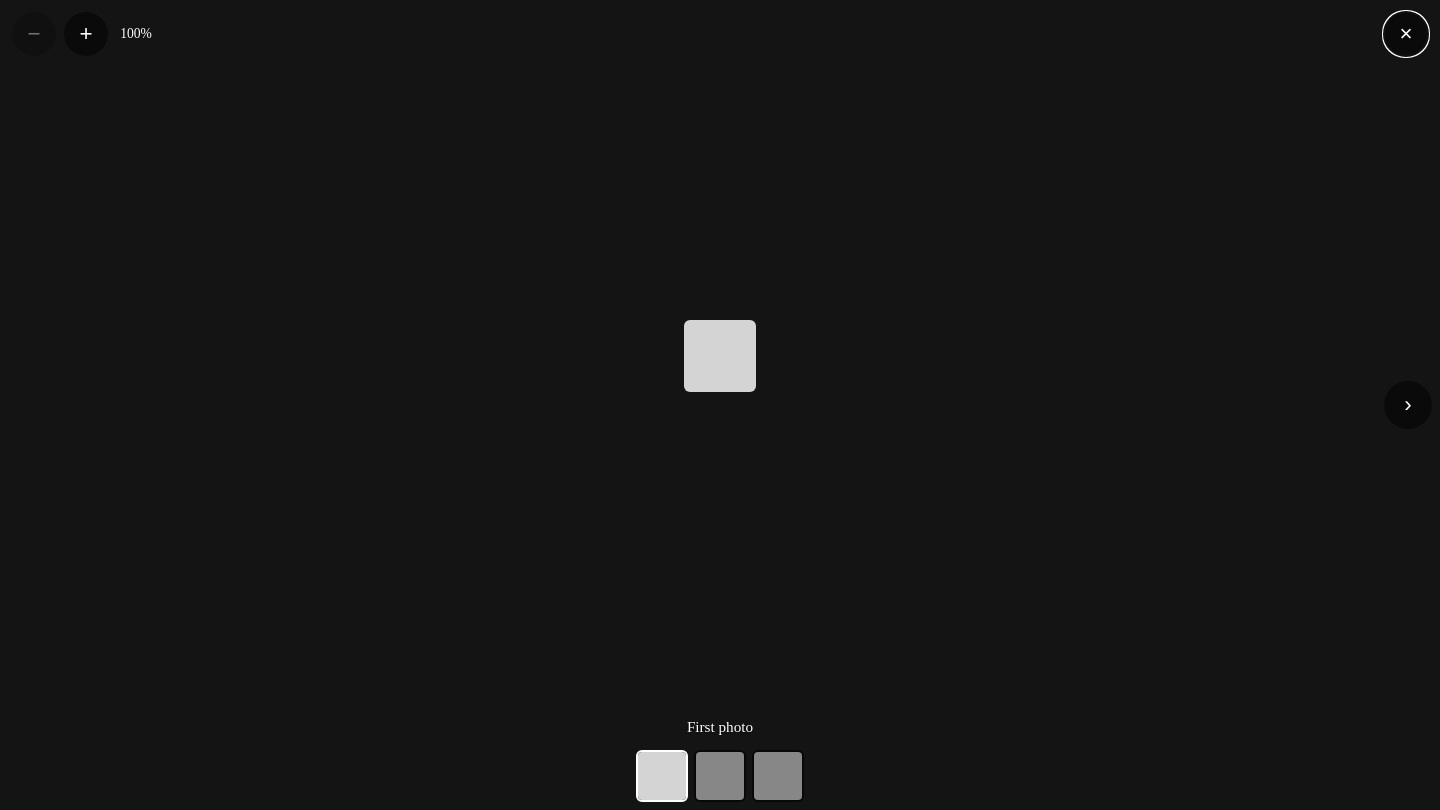
Test: Lightbox component › zoom-in clamps at MAX (400%) and disables the in-button
Step 1. Click the button named "Zoom in" → (86,34), box [64,12,108,56]
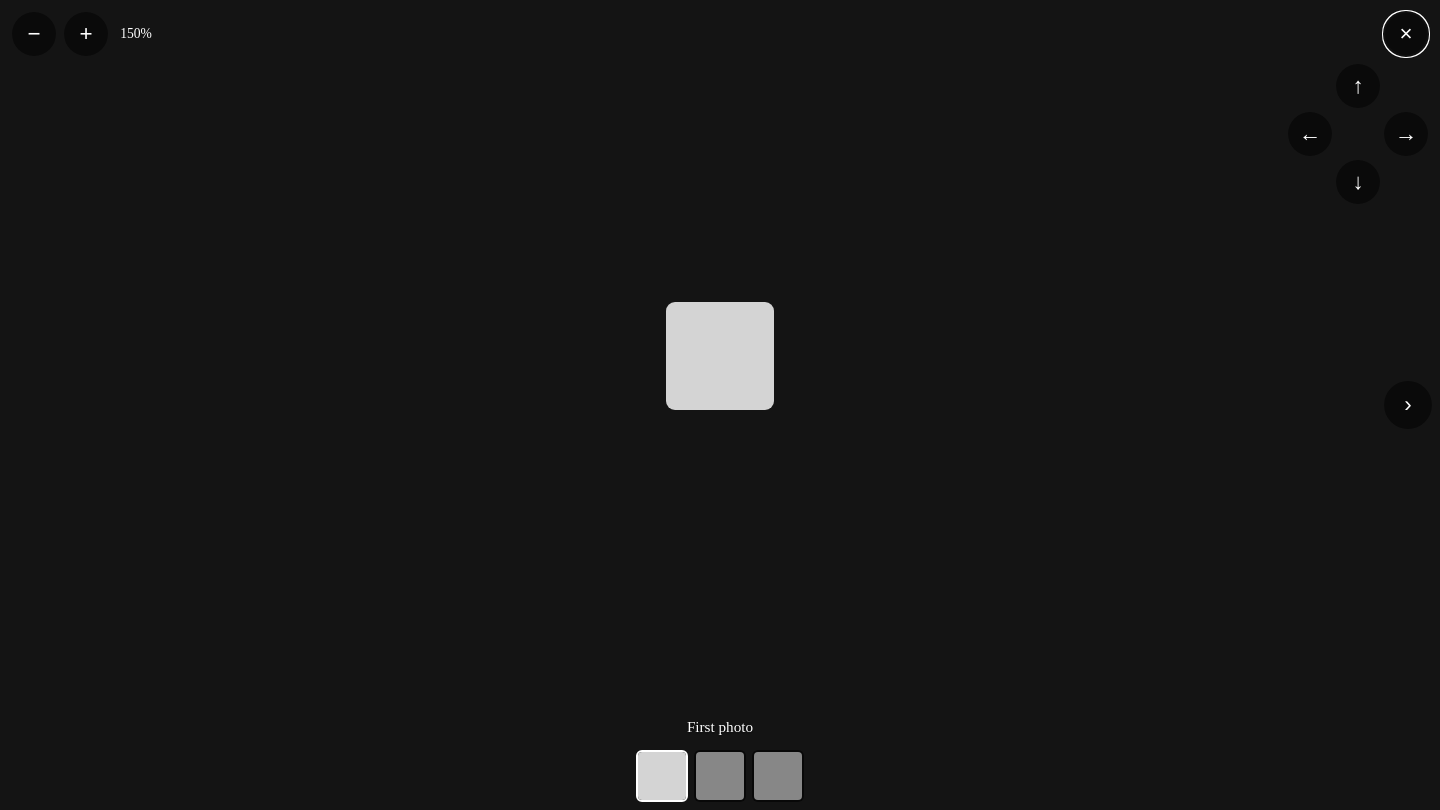
Step 2. Click the button named "Zoom in" → (86,34), box [64,12,108,56]
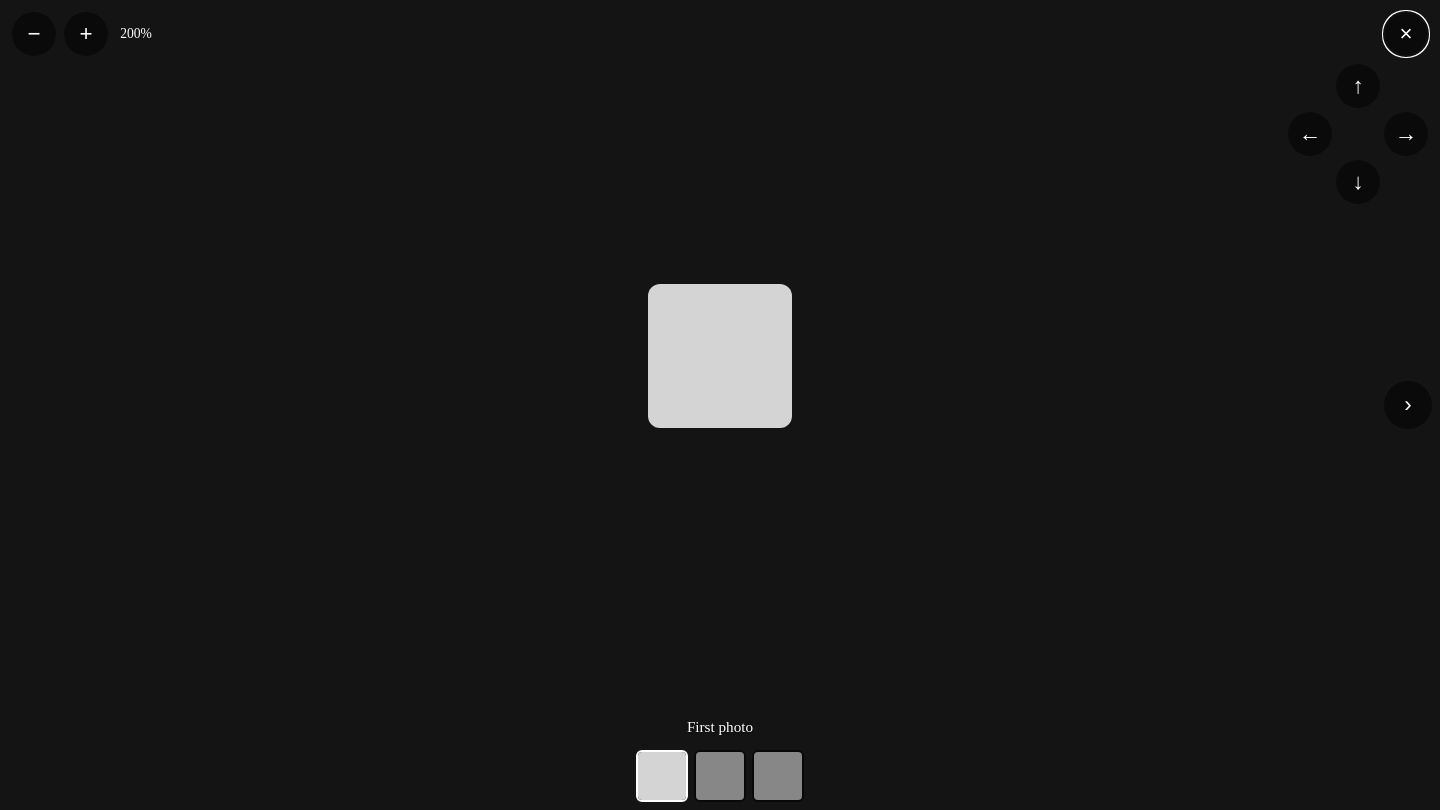
Step 3. Click the button named "Zoom in" → (86,34), box [64,12,108,56]
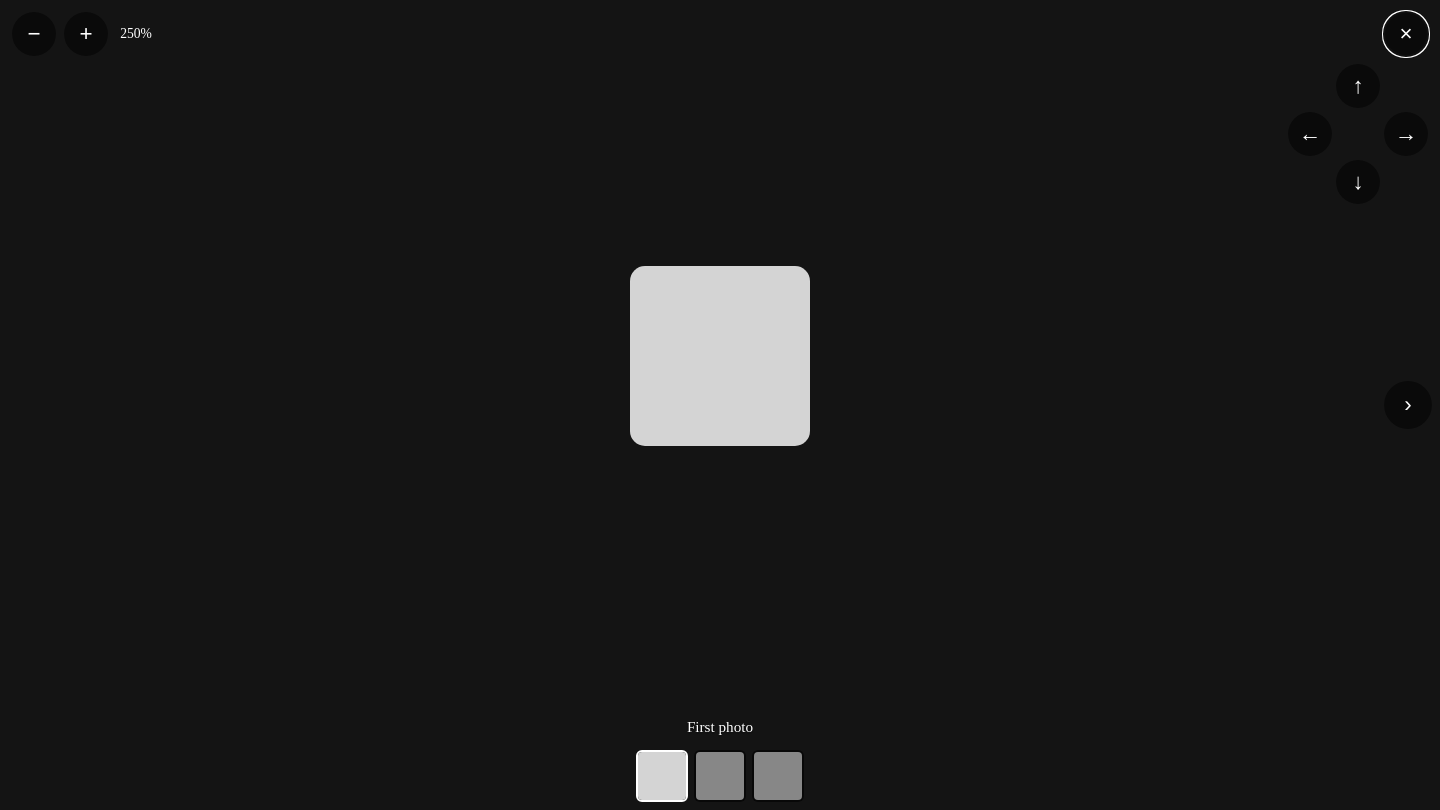
Step 4. Click the button named "Zoom in" → (86,34), box [64,12,108,56]
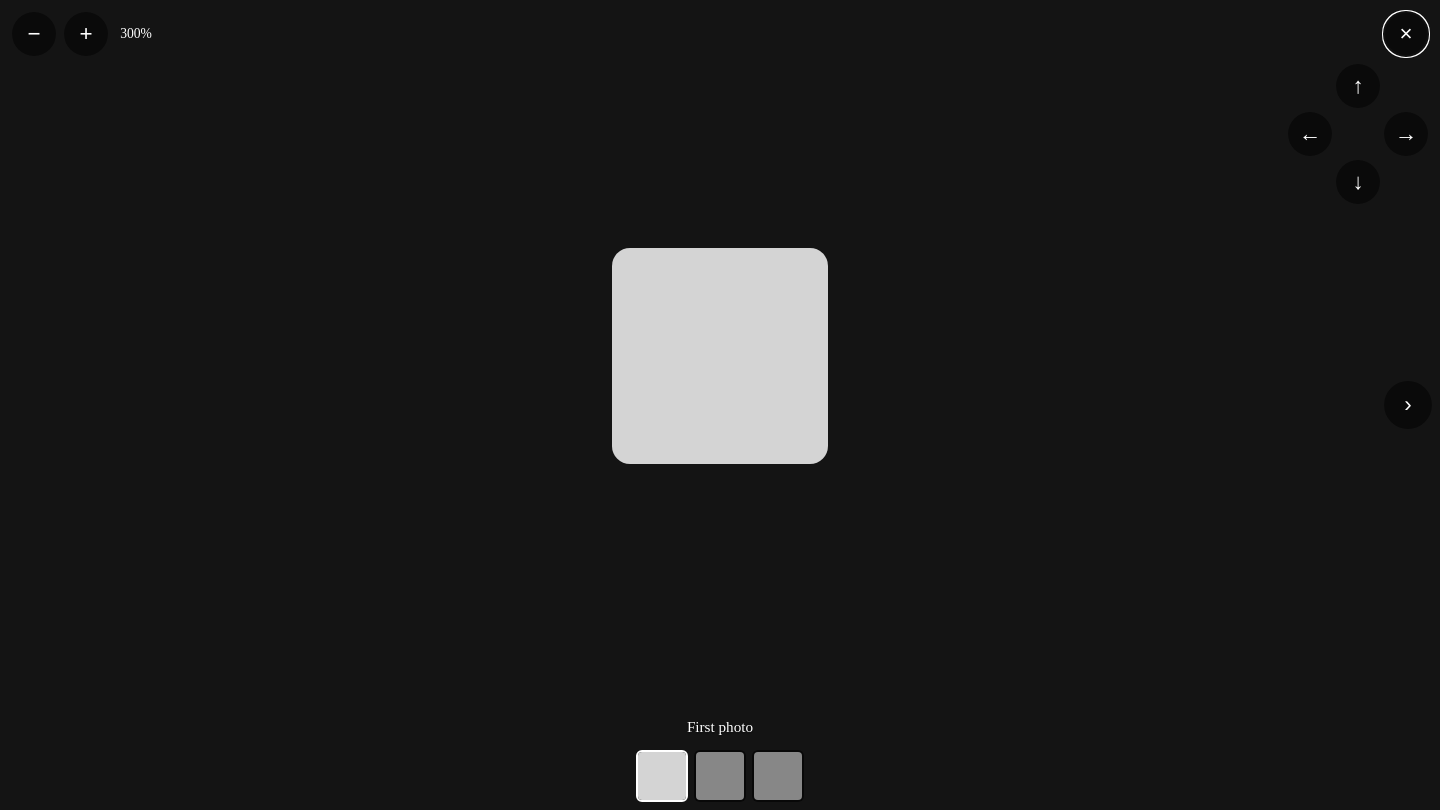
Step 5. Click the button named "Zoom in" → (86,34), box [64,12,108,56]
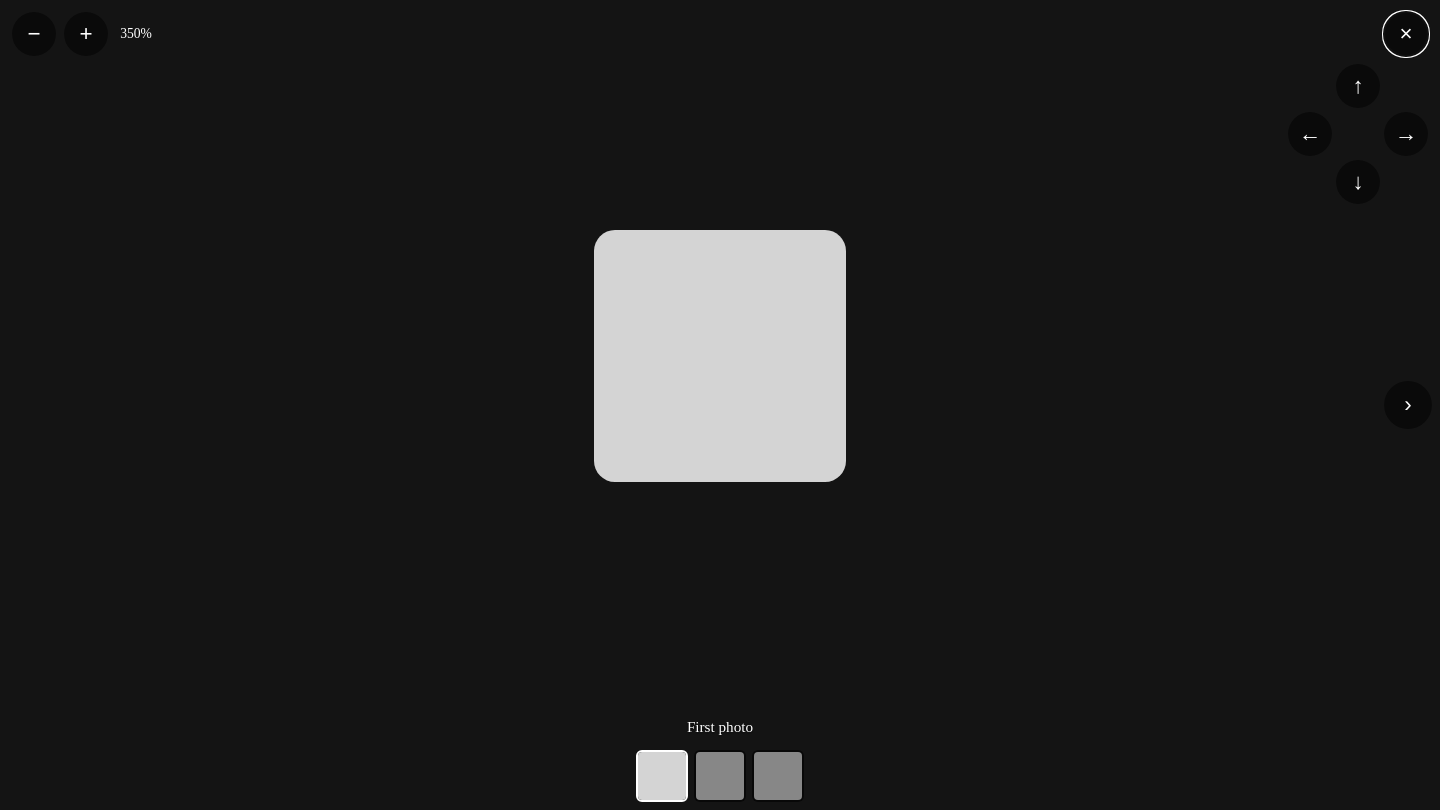
Step 6. Click the button named "Zoom in" → (86,34), box [64,12,108,56]
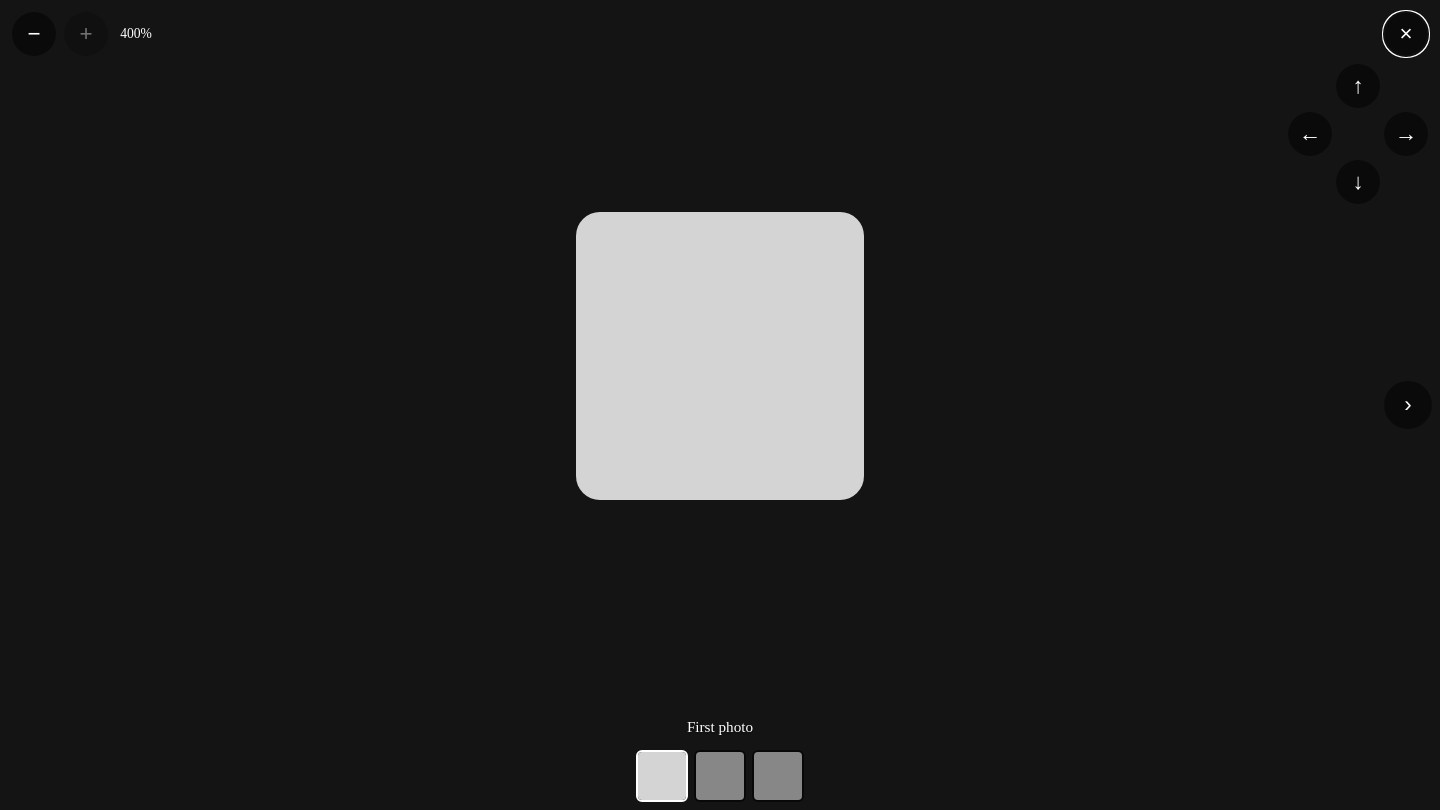
Check: the text with test id "lightbox-scale" reads "400%", box [120,26,152,41]
Check: the button named "Zoom in" is disabled, box [64,12,108,56]
